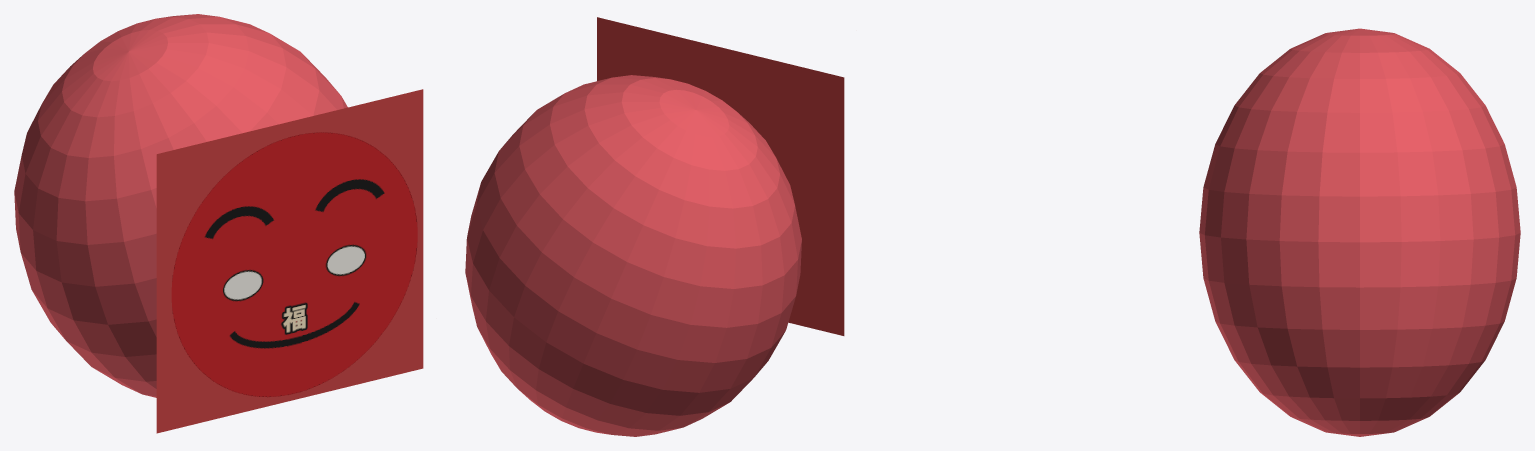
The model's file is daruma_coupon_3d.glb.
3 renders of one model, left to right at view 1: azimuth 30°, elevation 25°; view 2: azimuth 150°, elevation 25°; view 3: azimuth 270°, elevation 25°, orthographic. The views are drawn at different scales.
Visible parts, largest first — view 1: daruma_face, daruma_body; view 2: daruma_body, daruma_face; view 3: daruma_body.
Part boxes in pixels (box(x1,y1,x2,y2)): daruma_face: box(156, 89, 423, 433); daruma_body: box(14, 14, 347, 397); daruma_body: box(465, 75, 801, 436); daruma_face: box(597, 17, 844, 335); daruma_body: box(1199, 28, 1520, 436).
Bounding box in the file's own units: 0.6104 × 0.6589 × 1.04.
Materials: 8 (4 with a texture image).
